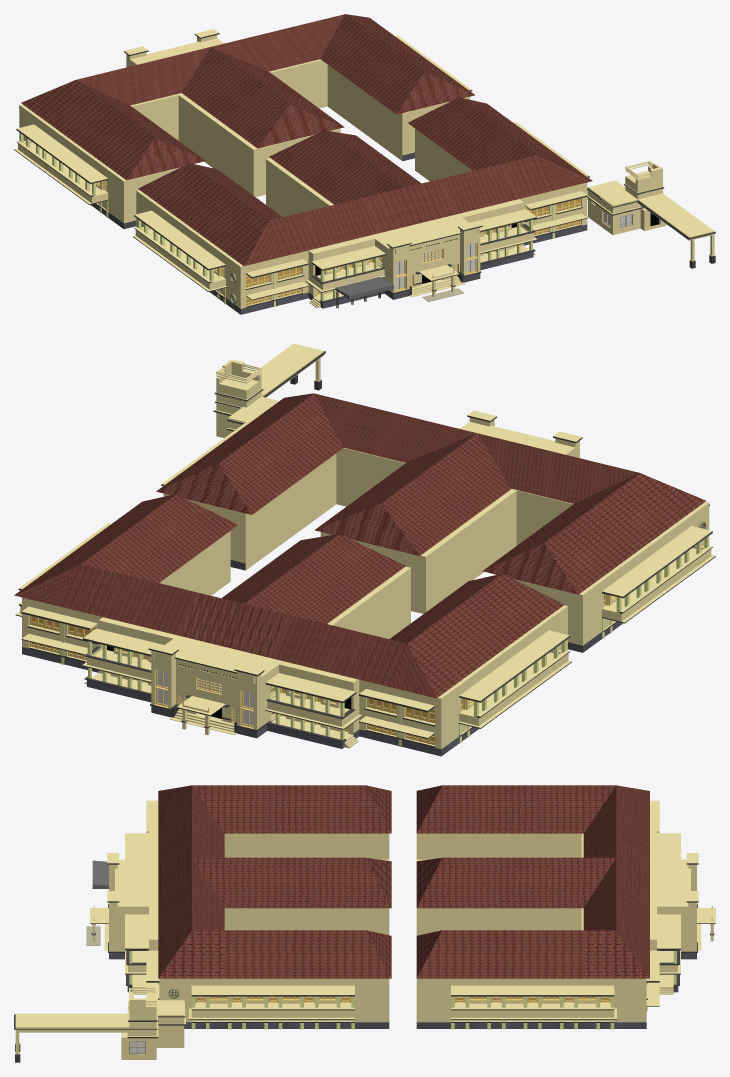
The model's file is hermanYohanes.glb.
3 views of the same model, one above another, from view 1: azimuth 30°, elevation 25°; view 2: azimuth 150°, elevation 25°; view 3: azimuth 270°, elevation 25° (orthographic). The views are drawn at different scales.
Visible parts, largest first — view 1: Cube, Cube.026, Cube.023, Cube.001, Cube.024, Cube.025, Cube.021, Cube.022, Cube.020, Cube.019; view 2: Cube.025, Cube.023, Cube.026, Cube.024, Cube.001, Cube, Cube.022, Cube.021, Cube.020; view 3: Cube.024, Cube.001, Cube.022, Cube.021, Cube.023, Cube.026, Cube, Cube.025, Cube.020, Cube.019.
Boxes of the visible parts, box(x1,y1,x2,y2) form: Cube: box(133, 158, 445, 314); Cube.026: box(21, 47, 300, 180); Cube.023: box(138, 130, 418, 265); Cube.001: box(211, 14, 475, 137); Cube.024: box(325, 97, 592, 223); Cube.025: box(14, 46, 296, 229); Cube.021: box(414, 122, 589, 292); Cube.022: box(173, 29, 472, 161); Cube.020: box(587, 160, 715, 268); Cube.019: box(335, 277, 393, 299); Cube.025: box(193, 566, 571, 756); Cube.023: box(367, 433, 706, 594); Cube.026: box(225, 534, 564, 698); Cube.024: box(156, 393, 476, 542); Cube.001: box(14, 494, 338, 646); Cube: box(373, 431, 715, 652); Cube.022: box(15, 523, 230, 729); Cube.021: box(161, 410, 523, 570); Cube.020: box(213, 343, 325, 437); Cube.024: box(158, 857, 391, 978); Cube.001: box(416, 857, 649, 978); Cube.022: box(416, 883, 715, 1029); Cube.021: box(90, 883, 389, 1029); Cube.023: box(158, 785, 391, 884); Cube.026: box(416, 785, 649, 884); Cube: box(90, 790, 389, 935); Cube.025: box(416, 790, 715, 935); Cube.020: box(14, 988, 185, 1062); Cube.019: box(92, 860, 108, 888).
Size of the model in its own units: 6.33 by 1.04 by 8.15.
91 materials, 8 textured.
